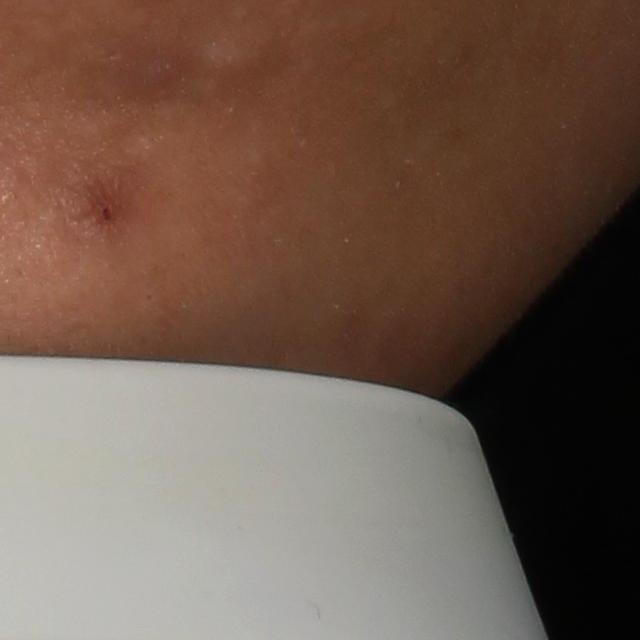hypertrophic_scar: (185, 24, 282, 79)
